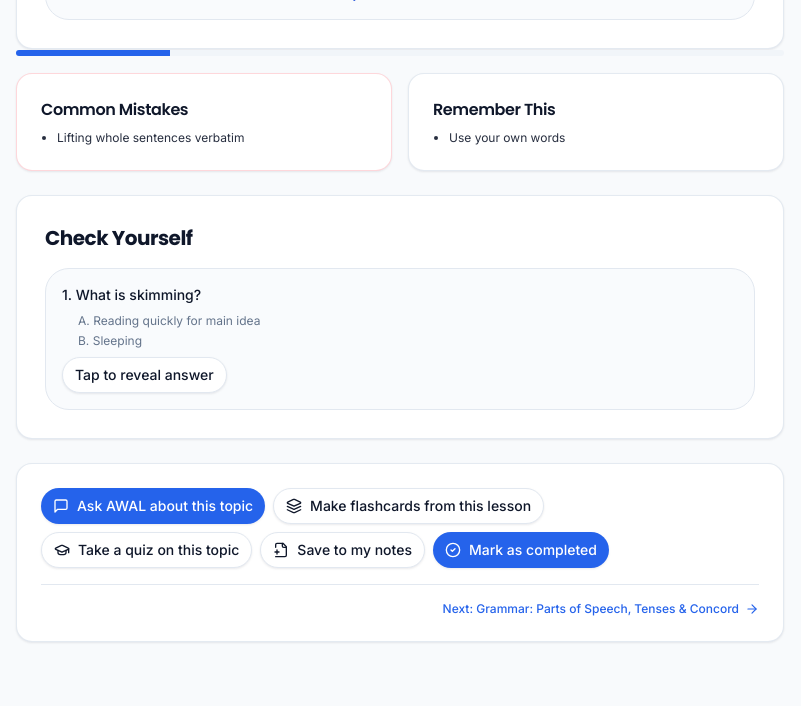
Test case: SHS Topic List & TopicLessonPage › renders readable TopicLessonPage with Check Yourself reveal and controls
(page scrolled)
Expected: the heading "Check Yourself" is shown, [45, 224, 192, 252]
Click the button "Tap to reveal answer" at (144, 375), box [62, 357, 227, 393]
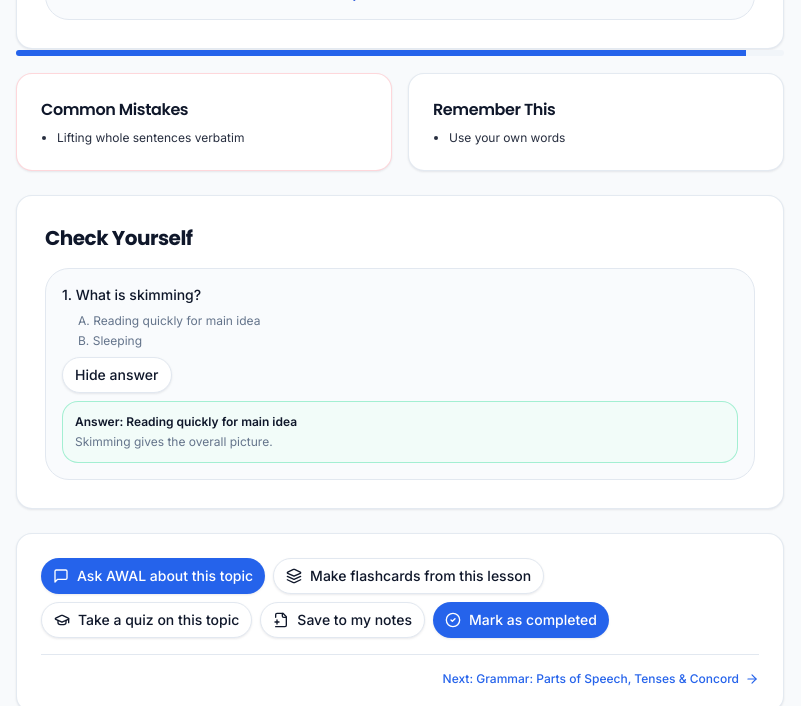
Result: the text "Answer: Reading quickly for main idea" is shown at [75, 414, 297, 429]
